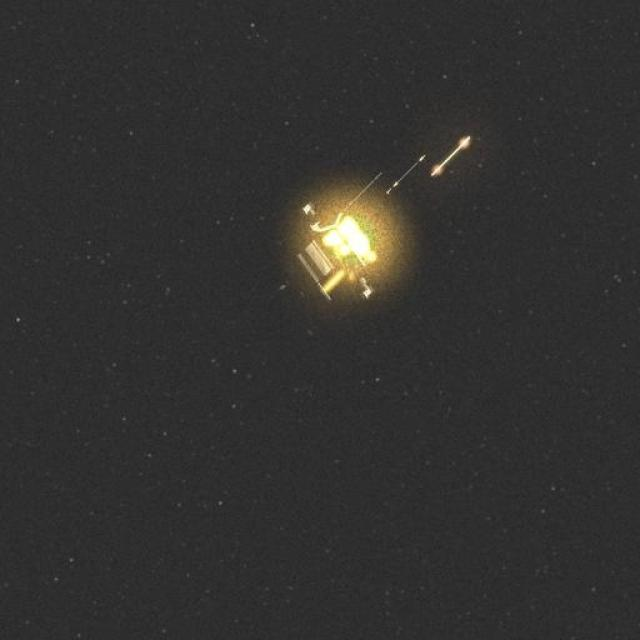earth_observation_sat_1: (249, 120, 477, 333)
